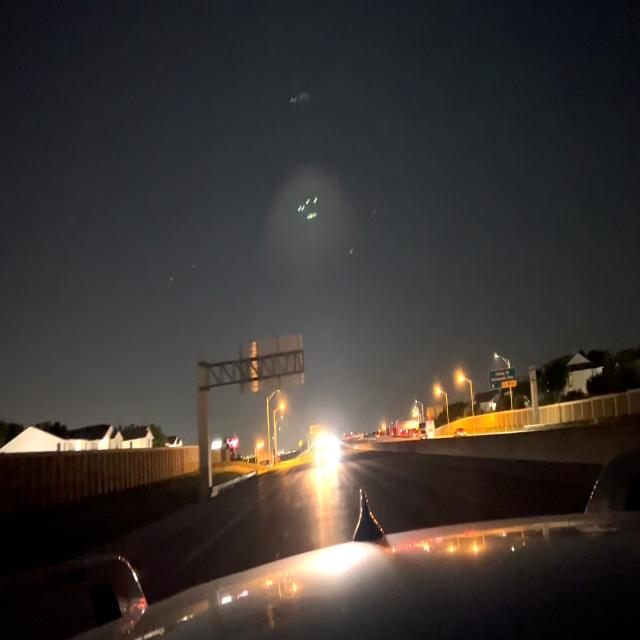back-of-sign: (240, 332, 307, 396)
